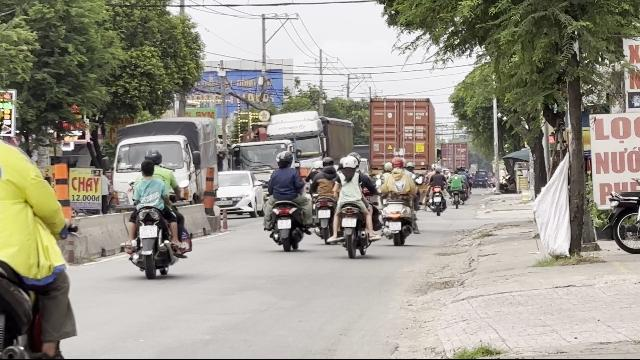helmet: (142, 148, 162, 165), (276, 150, 292, 168), (340, 154, 358, 170)
licenseplate: (139, 226, 157, 238), (342, 218, 356, 228), (277, 219, 291, 229)
motorcyclist: (120, 146, 192, 278), (262, 150, 310, 250), (333, 152, 377, 258)
nohelmet: (139, 160, 155, 176)
